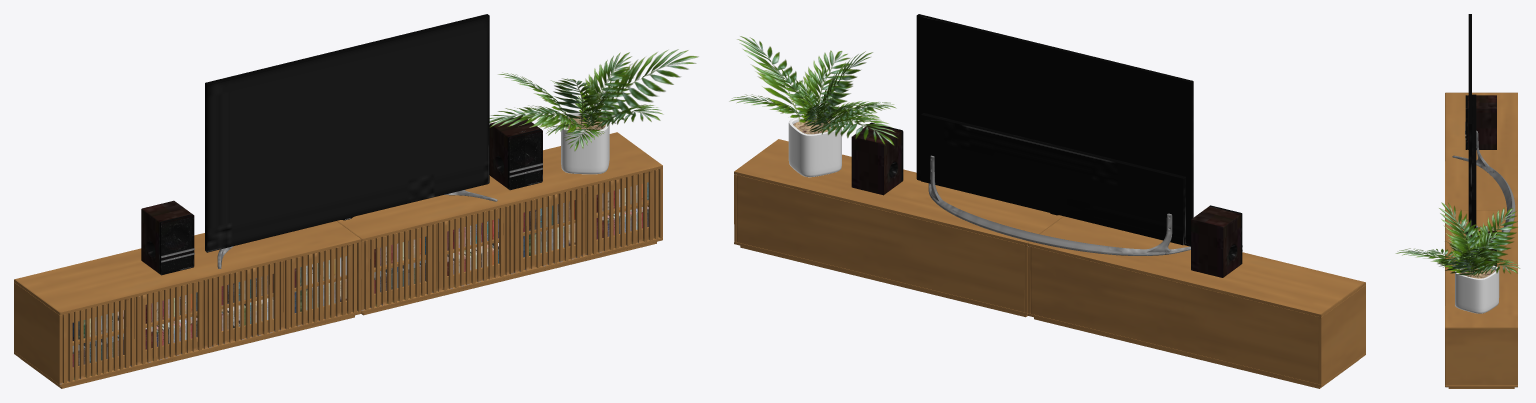
The model's file is tv_set.glb.
The picture shows the model from 3 angles, left to right: view 1: azimuth 30°, elevation 25°; view 2: azimuth 150°, elevation 25°; view 3: azimuth 270°, elevation 25°; orthographic projection. The views are drawn at different scales.
Visible parts, largest first — view 1: tv, tv cabinet2, tv cabinet, speaker.001, speaker, vase plant, Plane.028, Plane.024, Plane.022, Plane.002, Plane.023; view 2: tv, tv cabinet2, tv cabinet, speaker.001, speaker, vase plant, Plane.028, Plane.027, Plane.002, Plane.022, Plane.024, Plane.020; view 3: tv cabinet, tv cabinet2, tv, vase plant, speaker.001, Plane.029, Plane.022, Plane.028, Plane.024, Plane.021, Plane.023, Plane.027 (+3 smaller).
Part boxes in pixels (bbox=[...]): tv: bbox=[205, 14, 497, 268]; tv cabinet2: bbox=[14, 221, 361, 388]; tv cabinet: bbox=[337, 132, 662, 315]; speaker.001: bbox=[141, 200, 194, 275]; speaker: bbox=[489, 115, 542, 190]; vase plant: bbox=[561, 111, 609, 174]; Plane.028: bbox=[605, 49, 698, 123]; Plane.024: bbox=[582, 52, 631, 122]; Plane.022: bbox=[553, 78, 604, 124]; Plane.002: bbox=[489, 107, 583, 132]; Plane.023: bbox=[579, 60, 633, 120]; tv: bbox=[916, 14, 1193, 255]; tv cabinet2: bbox=[1028, 216, 1365, 388]; tv cabinet: bbox=[734, 139, 1063, 317]; speaker.001: bbox=[1191, 205, 1242, 277]; speaker: bbox=[851, 122, 903, 195]; vase plant: bbox=[788, 115, 841, 177]; Plane.028: bbox=[737, 36, 807, 124]; Plane.027: bbox=[798, 50, 854, 120]; Plane.002: bbox=[817, 116, 898, 145]; Plane.022: bbox=[820, 51, 872, 127]; Plane.024: bbox=[762, 64, 814, 120]; Plane.020: bbox=[805, 66, 835, 121]; tv cabinet: bbox=[1445, 210, 1517, 388]; tv cabinet2: bbox=[1445, 92, 1517, 210]; tv: bbox=[1452, 14, 1515, 264]; vase plant: bbox=[1455, 265, 1499, 313]; speaker.001: bbox=[1465, 95, 1496, 149]; Plane.029: bbox=[1472, 208, 1517, 264]; Plane.022: bbox=[1439, 202, 1482, 269]; Plane.028: bbox=[1437, 256, 1493, 277]; Plane.024: bbox=[1458, 246, 1494, 272]; Plane.021: bbox=[1469, 231, 1498, 273]; Plane.023: bbox=[1468, 259, 1519, 276]; Plane.027: bbox=[1396, 248, 1464, 273].
Bounding box in the file's own units: 3.41 × 1.3 × 0.7312.
11 materials, 10 textured.
